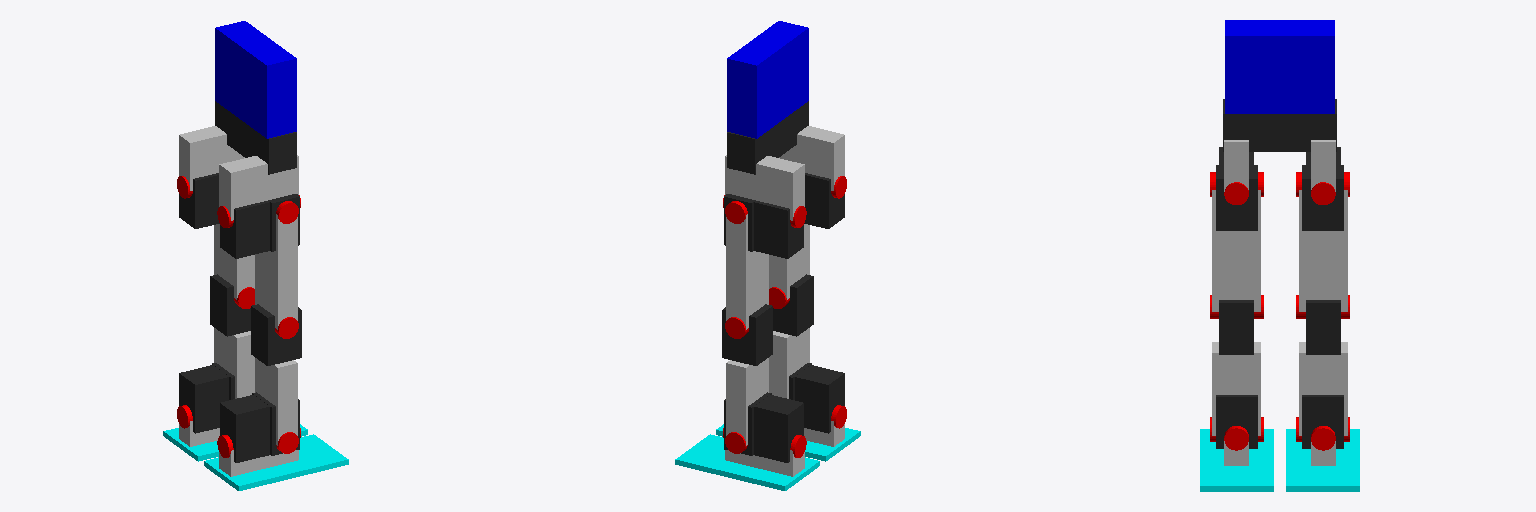
The robot description file, URDF, robot "humanoid":
<?xml version="1.0" ?>
<robot name="humanoid">
    <link name="body">
        <visual>
			<geometry>
				<box size="0.030 0.090 0.070"/>
			</geometry>
		    <origin xyz="0 0 0.355" rpy="0 0 0"/>
            <axis xyz="0 0 0" />
			<material name="blue">
	       		<color rgba="0 0 1 1.0"/>
	     	</material>
		</visual>
        <inertial>
            <mass value="0.3"/>
            <inertia ixx="0.000325" ixy="0.0" ixz="0.0" iyy="0.000145" iyz="0.0" izz="0.000225"/>
        </inertial>
        <collision>
			<geometry>
				<box size="0.030 0.090 0.070"/>
			</geometry>
		    <origin xyz="0 0 0.355" rpy="0 0 0"/>
        </collision>
    </link>


    <joint name="fixed_waist" type="fixed">
        <parent link="body"/>
        <child link="waist"/>
    </joint>

    <link name="waist">
        <visual>
			<geometry>
				<box size="0.0285 0.093 0.034"/>
			</geometry>
		    <origin xyz="0 0 0.303" rpy="0 0 0"/>
            <axis xyz="0 0 0" />
			<material name="motorColor">
	       		<color rgba="0.2 0.2 0.2 1.0"/>
	     	</material>
		</visual>
        <inertial>
            <mass value="0.116"/>
            <inertia ixx="9.478166666666668e-05" ixy="0.0" ixz="0.0" iyy="1.902641666666667e-05" iyz="0.0" izz="9.145875000000002e-05"/>
        </inertial>
    </link>

    <!-- Right leg -->
    
    <joint name="jointHipRZ" type="revolute">
        <parent link="waist"/>
        <child link="hipCylinderRZ"/>
        <origin xyz="0 -0.03525 0.25" rpy="0 0 0"/>
        <axis xyz="0 0 -1"/>
    	<limit effort="10" lower="-3" upper="+3" velocity="10"/>
        <dynamics damping="0"/>
    </joint>

    <link name="hipCylinderRZ">
        <visual>
			<geometry>
				<cylinder length="0.04" radius="0.01"/>
			</geometry>
		    <origin xyz="0 0 0.02" rpy="0 0 0"/>
            <axis xyz="0 0 0" />
			<material name="red">
	       		<color rgba="1 0.0 0.0 1.0"/>
	     	</material>
		</visual>
        <inertial>
            <mass value="0"/>
            <inertia ixx="0" ixy="0" ixz="0.0" iyy="0" iyz="0.0" izz="0"/>
        </inertial>
    </link>

    <joint name="jointHipRX" type="revolute">
        <parent link="hipCylinderRZ"/>
        <child link="hipCylinderRX"/>
        <origin xyz="0 0 0" rpy="0 0 0"/>
        <axis xyz="1 0 0"/>
    	<limit effort="10" lower="-3" upper="+3" velocity="10"/>
        <dynamics damping="0"/>
    </joint>

    <link name="hipCylinderRX">
        <visual>
			<geometry>
				<cylinder length="0.0725" radius="0.01"/>
			</geometry>
		    <origin xyz="-0.017 0 0" rpy="0 1.57075 0"/>
            <axis xyz="0 0 0" />
			<material name="red"/>
		</visual>
        <inertial>
            <mass value="0"/>
            <inertia ixx="0" ixy="0" ixz="0.0" iyy="0" iyz="0.0" izz="0"/>
        </inertial>
    </link>

    <joint name="jointHipRY" type="revolute">
        <parent link="hipCylinderRX"/>
        <child link="hipCylinderRY"/>
        <origin xyz="0 0 0" rpy="0 0 0"/>
        <axis xyz="0 -1 0"/>
    	<limit effort="10" lower="-3" upper="+3" velocity="10"/>
        <dynamics damping="0"/>
    </joint>

    <link name="hipCylinderRY">
        <visual>
			<geometry>
				<cylinder length="0.044" radius="0.01"/>
			</geometry>
		    <origin xyz="0 0 0" rpy="1.57075 0 0"/>
            <axis xyz="0 0 0" />
			<material name="red"/>
		</visual>
        <inertial>
            <mass value="0"/>
            <inertia ixx="0" ixy="0" ixz="0.0" iyy="0" iyz="0.0" izz="0"/>
        </inertial>
    </link>

    <joint name="jointKneeRY" type="revolute">
        <parent link="hipCylinderRY"/>
        <child link="kneeCylinderRY"/>
        <origin xyz="0 0 -0.11" rpy="0 0 0"/>
        <axis xyz="0 -1 0"/>
    	<limit effort="10" lower="-3" upper="+3" velocity="10"/>
        <dynamics damping="0"/>
    </joint>

    <link name="kneeCylinderRY">
        <visual>
			<geometry>
				<cylinder length="0.044" radius="0.01"/>
			</geometry>
		    <origin xyz="0 0 0" rpy="1.57075 0 0"/>
            <axis xyz="0 0 0" />
			<material name="red"/>
		</visual>
        <inertial>
            <mass value="0"/>
            <inertia ixx="0" ixy="0" ixz="0.0" iyy="0" iyz="0.0" izz="0"/>
        </inertial>
    </link>

    <joint name="jointankleRY" type="revolute">
        <parent link="kneeCylinderRY"/>
        <child link="ankleCylinderRY"/>
        <origin xyz="0 0 -0.11" rpy="0 0 0"/>
        <axis xyz="0 -1 0"/>
    	<limit effort="10" lower="-3" upper="+3" velocity="10"/>
        <dynamics damping="0"/>
    </joint>

    <link name="ankleCylinderRY">
        <visual>
			<geometry>
				<cylinder length="0.044" radius="0.01"/>
			</geometry>
		    <origin xyz="0 0 0" rpy="1.57075 0 0"/>
            <axis xyz="0 0 0" />
			<material name="red"/>
		</visual>
        <inertial>
            <mass value="0"/>
            <inertia ixx="0" ixy="0" ixz="0.0" iyy="0" iyz="0.0" izz="0"/>
        </inertial>
    </link>

    <joint name="jointankleRX" type="revolute">
        <parent link="ankleCylinderRY"/>
        <child link="ankleCylinderRX"/>
        <origin xyz="0 0 0" rpy="0 0 0"/>
        <axis xyz="1 0 0"/>
    	<limit effort="10" lower="-3" upper="+3" velocity="10"/>
        <dynamics damping="0"/>
    </joint>

    <link name="ankleCylinderRX">
        <visual>
			<geometry>
				<cylinder length="0.0725" radius="0.01"/>
			</geometry>
		    <origin xyz="-0.017 0 0" rpy="0 1.57075 0"/>
            <axis xyz="0 0 0" />
			<material name="red"/>
		</visual>
        <inertial>
            <mass value="0"/>
            <inertia ixx="0" ixy="0" ixz="0.0" iyy="0" iyz="0.0" izz="0"/>
        </inertial>
    </link>
     	
    <!-- Left leg -->
    
    <joint name="jointHipLZ" type="revolute">
        <parent link="waist"/>
        <child link="hipCylinderLZ"/>
        <origin xyz="0 0.03525 0.25" rpy="0 0 0"/>
        <axis xyz="0 0 -1"/>
    	<limit effort="10" lower="-3" upper="+3" velocity="10"/>
        <dynamics damping="0"/>
    </joint>

    <link name="hipCylinderLZ">
        <visual>
			<geometry>
				<cylinder length="0.04" radius="0.01"/>
			</geometry>
		    <origin xyz="0 0 0.02" rpy="0 0 0"/>
            <axis xyz="0 0 0" />
			<material name="red">
	       		<color rgba="1 0.0 0.0 1.0"/>
	     	</material>
		</visual>
        <inertial>
            <mass value="0"/>
            <inertia ixx="0" ixy="0" ixz="0.0" iyy="0" iyz="0.0" izz="0"/>
        </inertial>
    </link>

    <joint name="jointHipLX" type="revolute">
        <parent link="hipCylinderLZ"/>
        <child link="hipCylinderLX"/>
        <origin xyz="0 0 0" rpy="0 0 0"/>
        <axis xyz="1 0 0"/>
    	<limit effort="10" lower="-3" upper="+3" velocity="10"/>
        <dynamics damping="0"/>
    </joint>

    <link name="hipCylinderLX">
        <visual>
			<geometry>
				<cylinder length="0.0725" radius="0.01"/>
			</geometry>
		    <origin xyz="-0.017 0 0" rpy="0 1.57075 0"/>
            <axis xyz="0 0 0" />
			<material name="red"/>
		</visual>
        <inertial>
            <mass value="0"/>
            <inertia ixx="0" ixy="0" ixz="0.0" iyy="0" iyz="0.0" izz="0"/>
        </inertial>
    </link>

    <joint name="jointHipLY" type="revolute">
        <parent link="hipCylinderLX"/>
        <child link="hipCylinderLY"/>
        <origin xyz="0 0 0" rpy="0 0 0"/>
        <axis xyz="0 1 0"/>
    	<limit effort="10" lower="-3" upper="+3" velocity="10"/>
        <dynamics damping="0"/>
    </joint>

    <link name="hipCylinderLY">
        <visual>
			<geometry>
				<cylinder length="0.044" radius="0.01"/>
			</geometry>
		    <origin xyz="0 0 0" rpy="1.57075 0 0"/>
            <axis xyz="0 0 0" />
			<material name="red"/>
		</visual>
        <inertial>
            <mass value="0"/>
            <inertia ixx="0" ixy="0" ixz="0.0" iyy="0" iyz="0.0" izz="0"/>
        </inertial>
    </link>

    <joint name="jointKneeLY" type="revolute">
        <parent link="hipCylinderLY"/>
        <child link="kneeCylinderLY"/>
        <origin xyz="0 0 -0.11" rpy="0 0 0"/>
        <axis xyz="0 1 0"/>
    	<limit effort="10" lower="-3" upper="+3" velocity="10"/>
        <dynamics damping="0"/>
    </joint>

    <link name="kneeCylinderLY">
        <visual>
			<geometry>
				<cylinder length="0.044" radius="0.01"/>
			</geometry>
		    <origin xyz="0 0 0" rpy="1.57075 0 0"/>
            <axis xyz="0 0 0" />
			<material name="red"/>
		</visual>
        <inertial>
            <mass value="0"/>
            <inertia ixx="0" ixy="0" ixz="0.0" iyy="0" iyz="0.0" izz="0"/>
        </inertial>
    </link>

    <joint name="jointankleLY" type="revolute">
        <parent link="kneeCylinderLY"/>
        <child link="ankleCylinderLY"/>
        <origin xyz="0 0 -0.11" rpy="0 0 0"/>
        <axis xyz="0 1 0"/>
    	<limit effort="10" lower="-3" upper="+3" velocity="10"/>
        <dynamics damping="0"/>
    </joint>

    <link name="ankleCylinderLY">
        <visual>
			<geometry>
				<cylinder length="0.044" radius="0.01"/>
			</geometry>
		    <origin xyz="0 0 0" rpy="1.57075 0 0"/>
            <axis xyz="0 0 0" />
			<material name="red"/>
		</visual>
        <inertial>
            <mass value="0"/>
            <inertia ixx="0" ixy="0" ixz="0.0" iyy="0" iyz="0.0" izz="0"/>
        </inertial>
    </link>

    <joint name="jointankleLX" type="revolute">
        <parent link="ankleCylinderLY"/>
        <child link="ankleCylinderLX"/>
        <origin xyz="0 0 0" rpy="0 0 0"/>
        <axis xyz="1 0 0"/>
    	<limit effort="10" lower="-3" upper="+3" velocity="10"/>
        <dynamics damping="0"/>
    </joint>

    <link name="ankleCylinderLX">
        <visual>
			<geometry>
				<cylinder length="0.0725" radius="0.01"/>
			</geometry>
		    <origin xyz="-0.017 0 0" rpy="0 1.57075 0"/>
            <axis xyz="0 0 0" />
			<material name="red"/>
		</visual>
        <inertial>
            <mass value="0"/>
            <inertia ixx="0" ixy="0" ixz="0.0" iyy="0" iyz="0.0" izz="0"/>
        </inertial>
    </link>




    <!-- Decorations R -->
    
    
    <joint name="fixed_hipBridgeR" type="fixed">
        <parent link="hipCylinderRZ"/>
        <child link="hipBridgeR"/>
    </joint>
    
    <link name="hipBridgeR">
      <visual>
			<geometry>
				<box size="0.0685 0.02 0.046"/>
			</geometry>
		    <origin xyz="-0.017 0 0.023" rpy="0 0 0"/>
			<material name="linkColor">
	       		<color rgba="0.8 0.8 0.8 1.0"/>
	     	</material>
		</visual>
        <inertial>
            <mass value="0.03"/>
            <inertia ixx="6.29e-06" ixy="0.0" ixz="0.0" iyy="1.7020625000000003e-05" iyz="0.0" izz="1.2730625000000003e-05"/>
        </inertial>
    </link>
    
    <joint name="fixed_hipMotorRF" type="fixed">
        <parent link="hipCylinderRX"/>
        <child link="hipMotorRF"/>
    </joint>
    
    <link name="hipMotorRF">
        <visual>
			<geometry>
				<box size="0.0285 0.034 0.0465"/>
			</geometry>
		    <origin xyz="0 0 -0.01225" rpy="0 0 0"/>
            <axis xyz="0 0 0" />
			<material name="motorColor">
	       		<color rgba="0.2 0.2 0.2 1.0"/>
	     	</material>
		</visual>
        <inertial>
            <mass value="0.058"/>
            <inertia ixx="1.6038208333333333e-05" ixy="0.0" ixz="0.0" iyy="1.4376750000000003e-05" iyz="0.0" izz="9.513208333333336e-06"/>
        </inertial>
    </link>
    
    <joint name="fixed_hipMotorRB" type="fixed">
        <parent link="hipCylinderRX"/>
        <child link="hipMotorRB"/>
    </joint>

    <link name="hipMotorRB">
        <visual>
			<geometry>
				<box size="0.034 0.0285 0.0465"/>
			</geometry>
		    <origin xyz="-0.0315 0 -0.01225" rpy="0 0 0"/>
            <axis xyz="0 0 0" />
			<material name="motorColor"/>
		</visual>
        <inertial>
            <mass value="0.058"/>
            <inertia ixx="1.4376750000000003e-05" ixy="0.0" ixz="0.0" iyy="1.6038208333333333e-05" iyz="0.0" izz="9.513208333333336e-06"/>
        </inertial>
    </link>
    
    <joint name="fixed_legUpR" type="fixed">
        <parent link="hipCylinderRY"/>
        <child link="legUpR"/>
    </joint>
 
    <link name="legUpR">
        <visual>
            <geometry>
                <box size="0.02 0.04 0.11"/>
            </geometry>
            <origin xyz="0 0 -0.055"/>
            <axis xyz="0 0 0" />
            <material name="linkColor"/>
        </visual>
        <inertial>
            <mass value="0.03"/>
            <inertia ixx="3.425e-05" ixy="0.0" ixz="0.0" iyy="3.1249999999999994e-05" iyz="0.0" izz="5e-06"/>
        </inertial>
    </link>
    
    <joint name="fixed_kneeMotorR" type="fixed">
        <parent link="kneeCylinderRY"/>
        <child link="kneeMotorR"/>
    </joint>
    
    <link name="kneeMotorR">
        <visual>
			<geometry>
				<box size="0.034 0.0285 0.0465"/>
			</geometry>
		    <origin xyz="0 0 -0.01225" rpy="0 0 0"/>
            <axis xyz="0 0 0" />
            <material name="motorColor"/>
		</visual>
        <inertial>
            <mass value="0.058"/>
            <inertia ixx="1.4376750000000003e-05" ixy="0.0" ixz="0.0" iyy="1.6038208333333333e-05" iyz="0.0" izz="1.6038208333333333e-05"/>
        </inertial>
    </link>

    <joint name="fixed_legDownR" type="fixed">
        <parent link="kneeCylinderRY"/>
        <child link="legDownR"/>
    </joint>
    
    <link name="legDownR">
        <visual>
            <geometry>
                <box size="0.02 0.04 0.07475"/>
            </geometry>
            <origin xyz="0 0 -0.073625"/>
            <axis xyz="0 0 0" />
            <material name="linkColor"/>
        </visual>
        <inertial>
            <mass value="0.03"/>
            <inertia ixx="1.796890625e-05" ixy="0.0" ixz="0.0" iyy="1.4968906249999999e-05" iyz="0.0" izz="5e-06"/>
        </inertial>
    </link>

    <joint name="fixed_ankleMotorRF" type="fixed">
        <parent link="ankleCylinderRY"/>
        <child link="ankleMotorRF"/>
    </joint>

    <link name="ankleMotorRF">
        <visual>
			<geometry>
				<box size="0.0285 0.034 0.0465"/>
			</geometry>
		    <origin xyz="0 0 0.01225" rpy="0 0 0"/>
            <axis xyz="0 0 0" />
            <material name="motorColor"/>
		</visual>
        <inertial>
            <mass value="0.058"/>
            <inertia ixx="1.6038208333333333e-05" ixy="0.0" ixz="0.0" iyy="1.4376750000000003e-05" iyz="0.0" izz="9.513208333333336e-06"/>
        </inertial>
    </link>

    <joint name="fixed_ankleMotorRB" type="fixed">
        <parent link="ankleCylinderRY"/>
        <child link="ankleMotorRB"/>
    </joint>
    
    <link name="ankleMotorRB">
        <visual>
			<geometry>
				<box size="0.034 0.0285 0.0465"/>
			</geometry>
		    <origin xyz="-0.0315 0 0.01225" rpy="0 0 0"/>
            <axis xyz="0 0 0" />
            <material name="motorColor"/>
		</visual>
        <inertial>
            <mass value="0.058"/>
            <inertia ixx="1.4376750000000003e-05" ixy="0.0" ixz="0.0" iyy="1.6038208333333333e-05" iyz="0.0" izz="9.513208333333336e-06"/>
        </inertial>
    </link>

    <joint name="fixed_footBridgeR" type="fixed">
        <parent link="ankleCylinderRX"/>
        <child link="footBridgeR"/>
    </joint>

    <link name = "footBridgeR">
        <visual>
			<geometry>
				<box size="0.0685 0.02 0.025"/>
			</geometry>
		    <origin xyz="-0.017 0 -0.0125" rpy="0 0 0"/>
            <axis xyz="0 0 0" />
            <material name="linkColor"/>
		</visual>
        <inertial>
            <mass value="0.009"/>
            <inertia ixx="8.541666666666668e-07" ixy="0.0" ixz="0.0" iyy="4.431041666666667e-06" iyz="0.0" izz="4.243541666666668e-06"/>
        </inertial>
    </link>

    <joint name="fixed_footR" type="fixed">
        <parent link="ankleCylinderRX"/>
        <child link="footR"/>
    </joint>

    <link name="footR">
        <visual>
			<geometry>
				<box size="0.11 0.06 0.005"/>
			</geometry>
		    <origin xyz="0.0 -0.0 -0.0275" rpy="0 0 0"/>
            <axis xyz="0 0 0" />
            <material name="footColor">
	       		<color rgba="0 1 1 1.0"/>
            </material>
		</visual>
        <inertial>
            <mass value="0.025"/>
            <inertia ixx="1.026041666666667e-05" ixy="0.0" ixz="0.0" iyy="4.692708333333334e-05" iyz="0.0" izz="5.7083333333333336e-05"/>
        </inertial>
        <!--
        <collision>
			<geometry>
				<box size="0.15 0.04 0.02"/>
			</geometry>
		    <origin xyz="0.02 -0.015 -0.02" rpy="0 0 0"/>
        </collision>
        <collision>
			<geometry>
				<box size="0.12 0.07 0.02"/>
			</geometry>
		    <origin xyz="0.02 -0.015 -0.02" rpy="0 0 0"/>
        </collision>
        -->
        <collision>
			<geometry>
				<box size="0.11 0.06 0.02"/>
			</geometry>
		    <origin xyz="0.00 -0.00 -0.02" rpy="0 0 0"/>
        </collision>
    </link>

    <!-- Decorations L -->
    
    <joint name="fixed_hipBridgeL" type="fixed">
        <parent link="hipCylinderLZ"/>
        <child link="hipBridgeL"/>
    </joint>
    
    <link name="hipBridgeL">
      <visual>
			<geometry>
				<box size="0.0685 0.02 0.046"/>
			</geometry>
		    <origin xyz="-0.017 0 0.023" rpy="0 0 0"/>
			<material name="linkColor">
	       		<color rgba="0.8 0.8 0.8 1.0"/>
	     	</material>
		</visual>
        <inertial>
            <mass value="0.03"/>
            <inertia ixx="6.29e-06" ixy="0.0" ixz="0.0" iyy="1.7020625000000003e-05" iyz="0.0" izz="1.2730625000000003e-05"/>
        </inertial>
    </link>
    
    <joint name="fixed_hipMotorLF" type="fixed">
        <parent link="hipCylinderLX"/>
        <child link="hipMotorLF"/>
    </joint>
    
    <link name="hipMotorLF">
        <visual>
			<geometry>
				<box size="0.0285 0.034 0.0465"/>
			</geometry>
		    <origin xyz="0 0 -0.01225" rpy="0 0 0"/>
            <axis xyz="0 0 0" />
			<material name="motorColor">
	       		<color rgba="0.2 0.2 0.2 1.0"/>
	     	</material>
		</visual>
        <inertial>
            <mass value="0.058"/>
            <inertia ixx="1.6038208333333333e-05" ixy="0.0" ixz="0.0" iyy="1.4376750000000003e-05" iyz="0.0" izz="9.513208333333336e-06"/>
        </inertial>
    </link>
    
    <joint name="fixed_hipMotorLB" type="fixed">
        <parent link="hipCylinderLX"/>
        <child link="hipMotorLB"/>
    </joint>

    <link name="hipMotorLB">
        <visual>
			<geometry>
				<box size="0.034 0.0285 0.0465"/>
			</geometry>
		    <origin xyz="-0.0315 0 -0.01225" rpy="0 0 0"/>
            <axis xyz="0 0 0" />
			<material name="motorColor"/>
		</visual>
        <inertial>
            <mass value="0.058"/>
            <inertia ixx="1.4376750000000003e-05" ixy="0.0" ixz="0.0" iyy="1.6038208333333333e-05" iyz="0.0" izz="9.513208333333336e-06"/>
        </inertial>
    </link>
    
    <joint name="fixed_legUpL" type="fixed">
        <parent link="hipCylinderLY"/>
        <child link="legUpL"/>
    </joint>
 
    <link name="legUpL">
        <visual>
            <geometry>
                <box size="0.02 0.04 0.11"/>
            </geometry>
            <origin xyz="0 0 -0.055"/>
            <axis xyz="0 0 0" />
            <material name="linkColor"/>
        </visual>
        <inertial>
            <mass value="0.03"/>
            <inertia ixx="3.425e-05" ixy="0.0" ixz="0.0" iyy="3.1249999999999994e-05" iyz="0.0" izz="5e-06"/>
        </inertial>
    </link>
    
    <joint name="fixed_kneeMotorL" type="fixed">
        <parent link="kneeCylinderLY"/>
        <child link="kneeMotorL"/>
    </joint>
    
    <link name="kneeMotorL">
        <visual>
			<geometry>
				<box size="0.034 0.0285 0.0465"/>
			</geometry>
		    <origin xyz="0 0 -0.01225" rpy="0 0 0"/>
            <axis xyz="0 0 0" />
            <material name="motorColor"/>
		</visual>
        <inertial>
            <mass value="0.058"/>
            <inertia ixx="1.4376750000000003e-05" ixy="0.0" ixz="0.0" iyy="1.6038208333333333e-05" iyz="0.0" izz="1.6038208333333333e-05"/>
        </inertial>
    </link>

    <joint name="fixed_legDownL" type="fixed">
        <parent link="kneeCylinderLY"/>
        <child link="legDownL"/>
    </joint>
    
    <link name="legDownL">
        <visual>
            <geometry>
                <box size="0.02 0.04 0.07475"/>
            </geometry>
            <origin xyz="0 0 -0.073625"/>
            <axis xyz="0 0 0" />
            <material name="linkColor"/>
        </visual>
        <inertial>
            <mass value="0.03"/>
            <inertia ixx="1.796890625e-05" ixy="0.0" ixz="0.0" iyy="1.4968906249999999e-05" iyz="0.0" izz="5e-06"/>
        </inertial>
    </link>

    <joint name="fixed_ankleMotorLF" type="fixed">
        <parent link="ankleCylinderLY"/>
        <child link="ankleMotorLF"/>
    </joint>

    <link name="ankleMotorLF">
        <visual>
			<geometry>
				<box size="0.0285 0.034 0.0465"/>
			</geometry>
		    <origin xyz="0 0 0.01225" rpy="0 0 0"/>
            <axis xyz="0 0 0" />
            <material name="motorColor"/>
		</visual>
        <inertial>
            <mass value="0.058"/>
            <inertia ixx="1.6038208333333333e-05" ixy="0.0" ixz="0.0" iyy="1.4376750000000003e-05" iyz="0.0" izz="9.513208333333336e-06"/>
        </inertial>
    </link>

    <joint name="fixed_ankleMotorLB" type="fixed">
        <parent link="ankleCylinderLY"/>
        <child link="ankleMotorLB"/>
    </joint>
    
    <link name="ankleMotorLB">
        <visual>
			<geometry>
				<box size="0.034 0.0285 0.0465"/>
			</geometry>
		    <origin xyz="-0.0315 0 0.01225" rpy="0 0 0"/>
            <axis xyz="0 0 0" />
            <material name="motorColor"/>
		</visual>
        <inertial>
            <mass value="0.058"/>
            <inertia ixx="1.4376750000000003e-05" ixy="0.0" ixz="0.0" iyy="1.6038208333333333e-05" iyz="0.0" izz="9.513208333333336e-06"/>
        </inertial>
    </link>

    <joint name="fixed_footBridgeL" type="fixed">
        <parent link="ankleCylinderLX"/>
        <child link="footBridgeL"/>
    </joint>

    <link name = "footBridgeL">
        <visual>
			<geometry>
				<box size="0.0685 0.02 0.025"/>
			</geometry>
		    <origin xyz="-0.017 0 -0.0125" rpy="0 0 0"/>
            <axis xyz="0 0 0" />
            <material name="linkColor"/>
		</visual>
        <inertial>
            <mass value="0.009"/>
            <inertia ixx="8.541666666666668e-07" ixy="0.0" ixz="0.0" iyy="4.431041666666667e-06" iyz="0.0" izz="4.243541666666668e-06"/>
        </inertial>
    </link>

    <joint name="fixed_ankleCylinderLX" type="fixed">
        <parent link="ankleCylinderLX"/>
        <child link="footL"/>
    </joint>

    <link name="footL">
        <visual>
			<geometry>
				<box size="0.11 0.06 0.005"/>
			</geometry>
		    <origin xyz="0.0 0.0 -0.0275" rpy="0 0 0"/>
            <axis xyz="0 0 0" />
            <material name="footColor">
	       		<color rgba="0 1 1 1.0"/>
            </material>
		</visual>
        <inertial>
            <mass value="0.025"/>
            <inertia ixx="1.026041666666667e-05" ixy="0.0" ixz="0.0" iyy="4.692708333333334e-05" iyz="0.0" izz="5.7083333333333336e-05"/>
        </inertial>
        <!--
        <collision>
			<geometry>
				<box size="0.15 0.04 0.02"/>
			</geometry>
		    <origin xyz="0.02 0.015 -0.02" rpy="0 0 0"/>
        </collision>
        <collision>
			<geometry>
				<box size="0.12 0.07 0.02"/>
			</geometry>
		    <origin xyz="0.02 0.015 -0.02" rpy="0 0 0"/>
        </collision>
        -->
        <collision>
			<geometry>
				<box size="0.11 0.06 0.02"/>
			</geometry>
		    <origin xyz="0.00 0.000 -0.02" rpy="0 0 0"/>
        </collision>
    </link>
</robot>

--- What the picture shows (computed from the rendered views, not written in the file) ---
3 views of the same robot in one strip: view 1: azimuth 30°, elevation 25°; view 2: azimuth 150°, elevation 25°; view 3: azimuth 270°, elevation 25° (orthographic).
Model humanoid with 34 links and 33 joints (12 revolute, 21 fixed), rooted at body, posed every joint at zero.
Links seen in each view (by area): view 1: body, legUpR, hipBridgeR, footR, ankleMotorRB, waist, ankleMotorLB, legDownR, hipBridgeL, hipMotorRB, kneeMotorR, legDownL (+7 smaller); view 2: body, legUpL, hipBridgeL, footL, ankleMotorLB, waist, ankleMotorRB, legDownL, hipBridgeR, hipMotorLB, kneeMotorL, legDownR (+7 smaller); view 3: body, legUpR, legUpL, waist, footR, footL, legDownR, legDownL, kneeMotorR, kneeMotorL, hipMotorRF, hipMotorLF (+4 smaller).
Boxes of the visible links, <box> form: body: <box>215,21,296,138</box>; legUpR: <box>255,214,297,329</box>; hipBridgeR: <box>219,155,298,220</box>; footR: <box>204,434,348,490</box>; ankleMotorRB: <box>220,395,269,462</box>; waist: <box>215,101,296,174</box>; ankleMotorLB: <box>179,365,228,433</box>; legDownR: <box>255,358,297,445</box>; hipBridgeL: <box>179,126,244,190</box>; hipMotorRB: <box>220,201,269,258</box>; kneeMotorR: <box>251,304,301,365</box>; legDownL: <box>214,328,254,398</box>; body: <box>727,21,808,138</box>; legUpL: <box>726,214,768,329</box>; hipBridgeL: <box>725,155,804,220</box>; footL: <box>675,434,819,490</box>; ankleMotorLB: <box>754,395,803,462</box>; waist: <box>727,101,808,174</box>; ankleMotorRB: <box>795,365,844,433</box>; legDownL: <box>726,358,768,445</box>; hipBridgeR: <box>779,126,844,190</box>; hipMotorLB: <box>754,201,803,258</box>; kneeMotorL: <box>722,304,772,365</box>; legDownR: <box>769,328,809,398</box>; body: <box>1225,20,1334,113</box>; legUpR: <box>1212,190,1260,311</box>; legUpL: <box>1299,190,1347,311</box>; waist: <box>1223,99,1336,151</box>; footR: <box>1200,429,1273,491</box>; footL: <box>1286,429,1359,491</box>; legDownR: <box>1212,342,1260,435</box>; legDownL: <box>1299,342,1347,435</box>; kneeMotorR: <box>1219,300,1253,354</box>; kneeMotorL: <box>1306,300,1340,354</box>; hipMotorRF: <box>1216,165,1257,230</box>; hipMotorLF: <box>1302,165,1343,230</box>.
Size in the robot's own frame: 0.11 by 0.1305 by 0.39 metres.
Geometry: primitives only (box / cylinder / sphere), no mesh files.